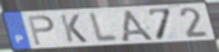2: (179, 6, 210, 39)
7: (148, 7, 172, 41)
A: (119, 8, 157, 42)
K: (59, 13, 90, 44)
L: (88, 11, 120, 44)
P: (26, 14, 56, 47)
